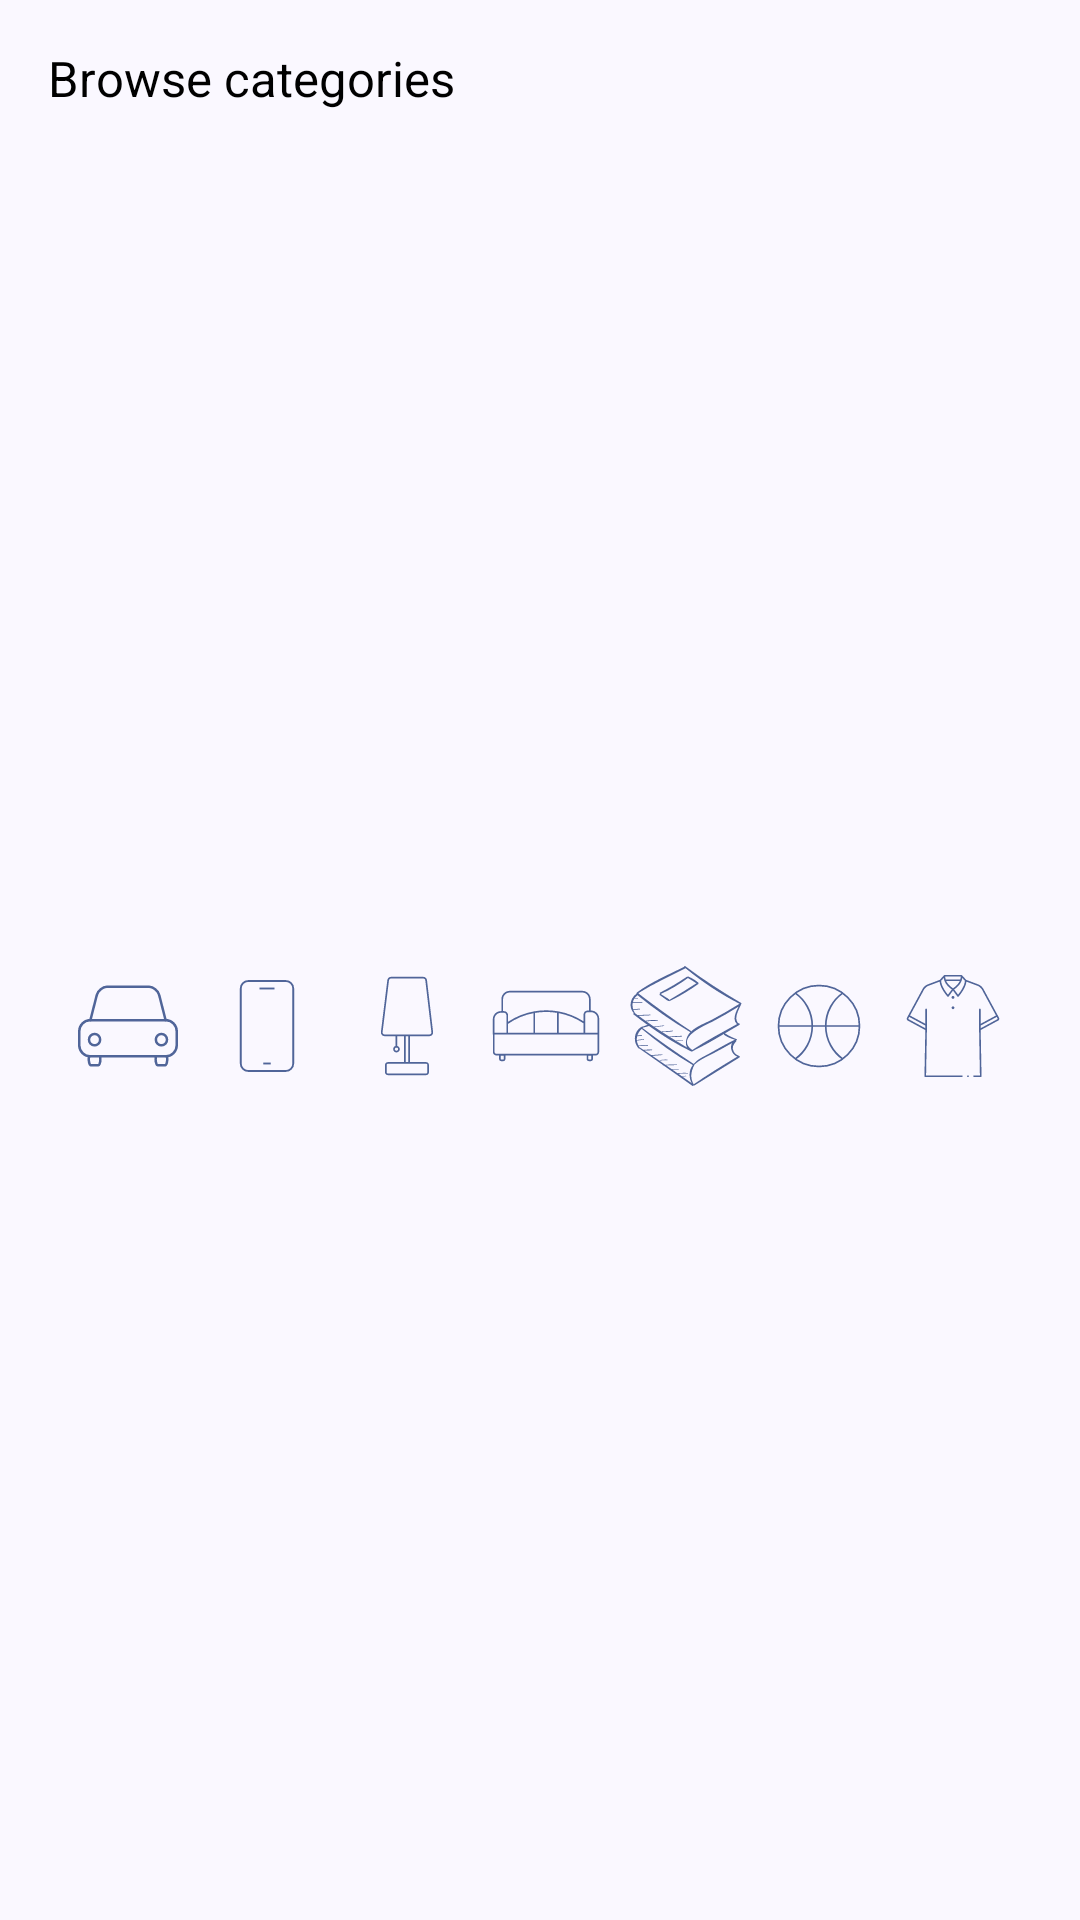

Named icons in this screenshot (1080px×1920px) and their bounding boxes, (x1, y1, x2, y2):
ball: (777, 984, 861, 1068)
books: (630, 966, 742, 1086)
fashion: (906, 975, 1000, 1077)
furniture: (492, 990, 600, 1062)
mobile: (239, 980, 295, 1072)
vehicle: (78, 985, 178, 1067)
